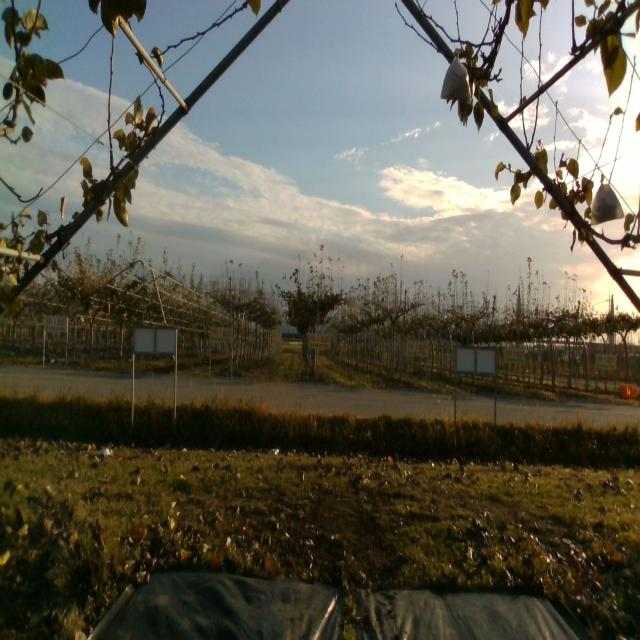pearbags: (442, 47, 472, 107), (591, 174, 624, 228)
